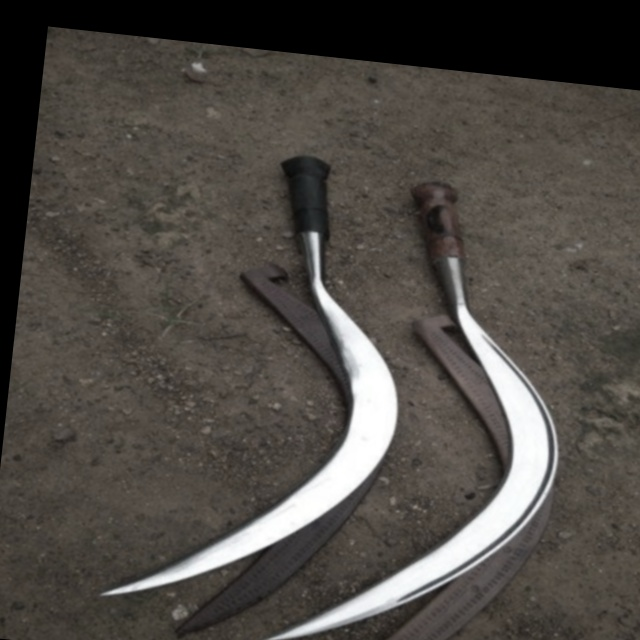Sharp-Object: (87, 131, 419, 633), (266, 162, 595, 640)
